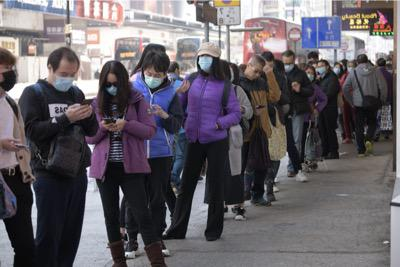with_mask: (52, 69, 77, 92), (0, 62, 16, 92), (144, 70, 163, 88), (103, 79, 121, 97), (197, 55, 212, 72), (283, 61, 294, 72), (317, 64, 326, 75), (306, 71, 315, 81), (333, 65, 341, 75), (346, 65, 356, 73)
without_mask: (248, 67, 263, 80)
